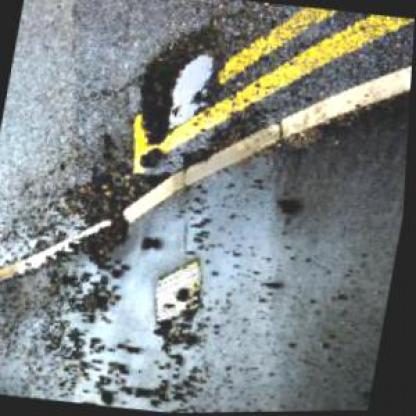pothole: (129, 18, 233, 153)
